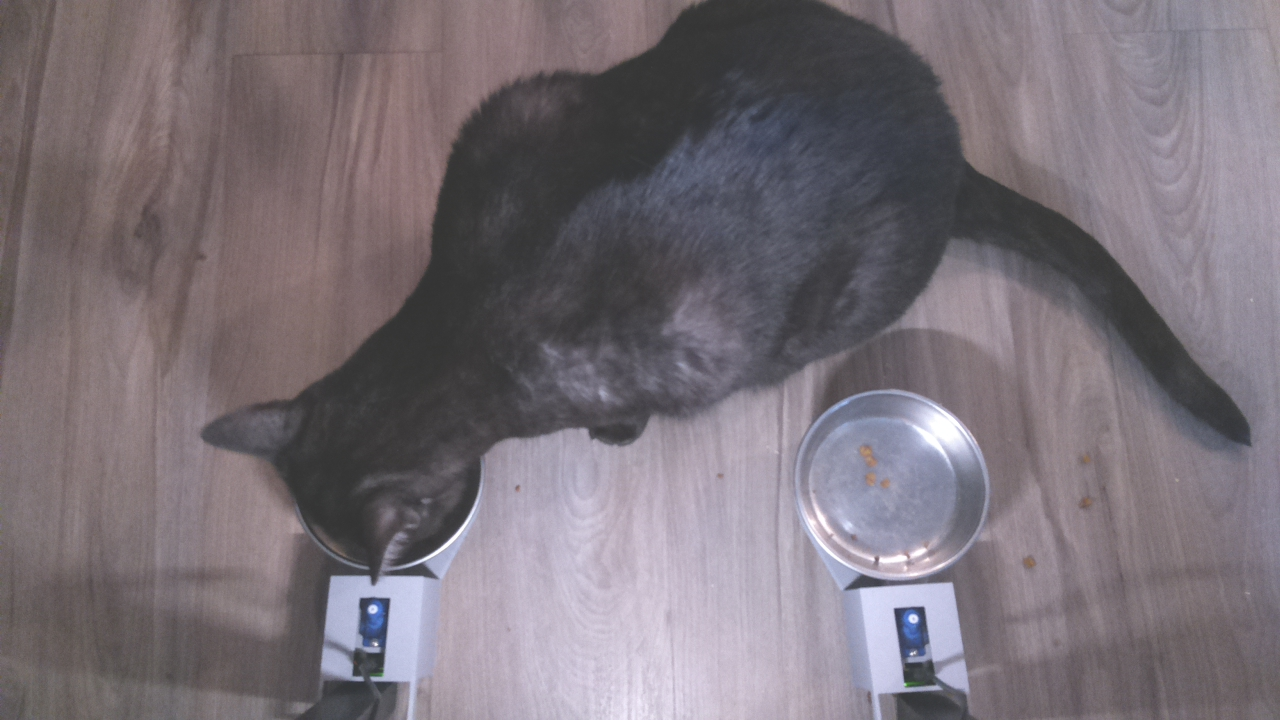open_bowl: (791, 383, 998, 586)
saki_eating: (196, 322, 524, 590)
